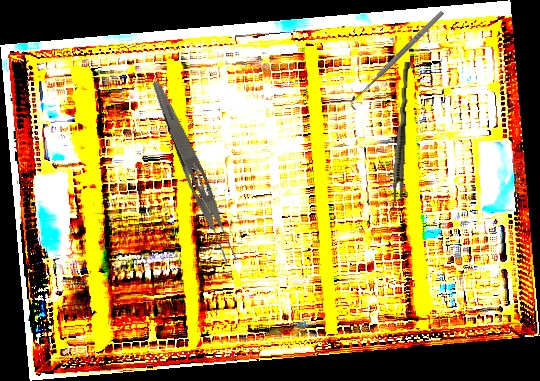Dressing Forceps: (143, 78, 243, 267)
Hook Surgical: (346, 9, 449, 111)
Tissue Forceps: (391, 61, 412, 210)
